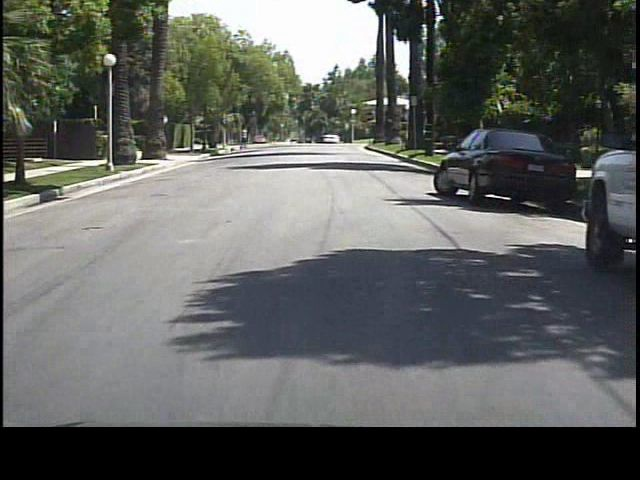person: (239, 126, 252, 155)
